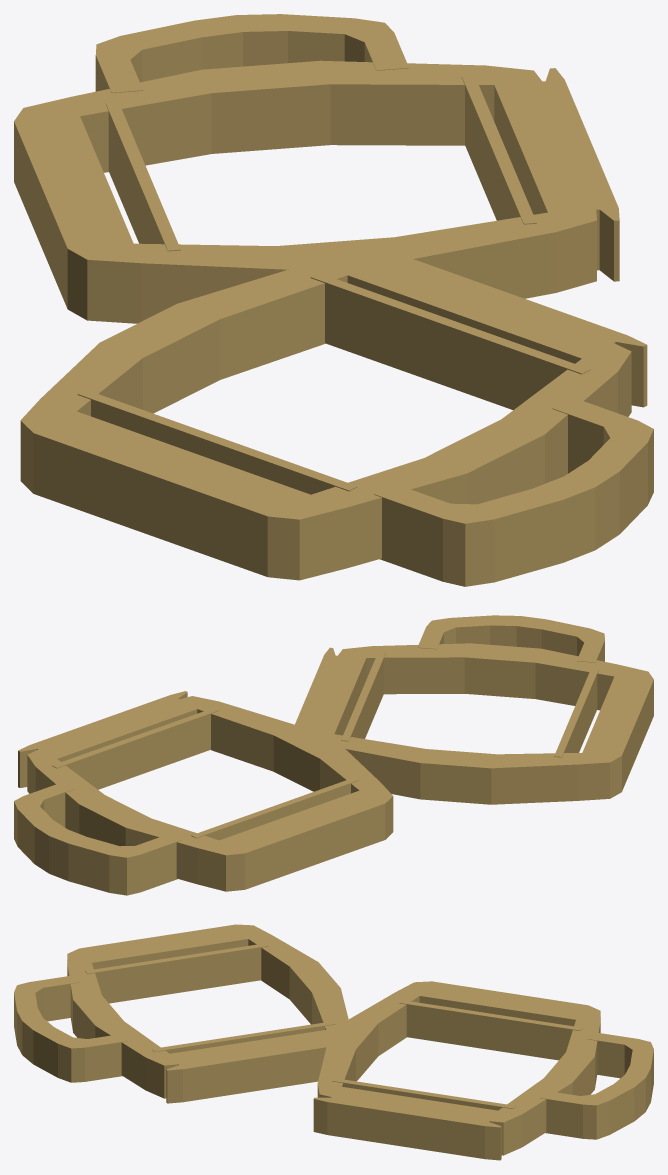
File: beermug.fbx
3 views of the same model, one above another, from view 1: azimuth 30°, elevation 25°; view 2: azimuth 150°, elevation 25°; view 3: azimuth 270°, elevation 25° (orthographic). The views are drawn at different scales.
Parts seen in each view (by area): view 1: pCube675; view 2: pCube675; view 3: pCube675.
Part boxes in pixels (x1,y1,x2,y2): pCube675: [14, 14, 653, 586]; pCube675: [14, 615, 653, 895]; pCube675: [14, 924, 653, 1160].
Bounding box in the file's own units: 10.93 × 0.8662 × 14.56.
